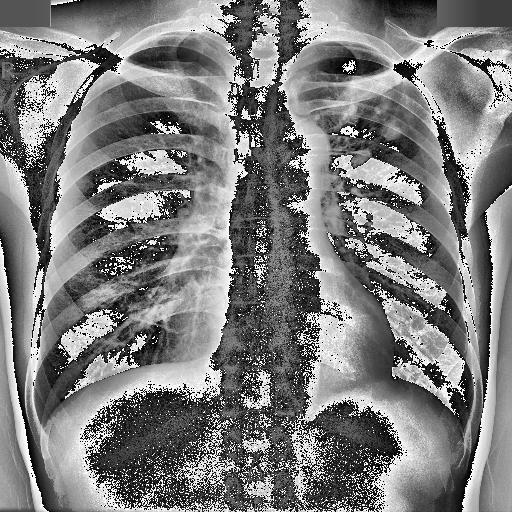0- Aortic enlargement: (262, 116, 331, 180)
13- Pulmonary fibrosis: (330, 80, 413, 168), (319, 87, 407, 169)
8- Nodule-Mass: (348, 147, 375, 168), (378, 120, 404, 140), (350, 146, 372, 168), (380, 122, 402, 142), (374, 98, 390, 113), (350, 185, 364, 196)
